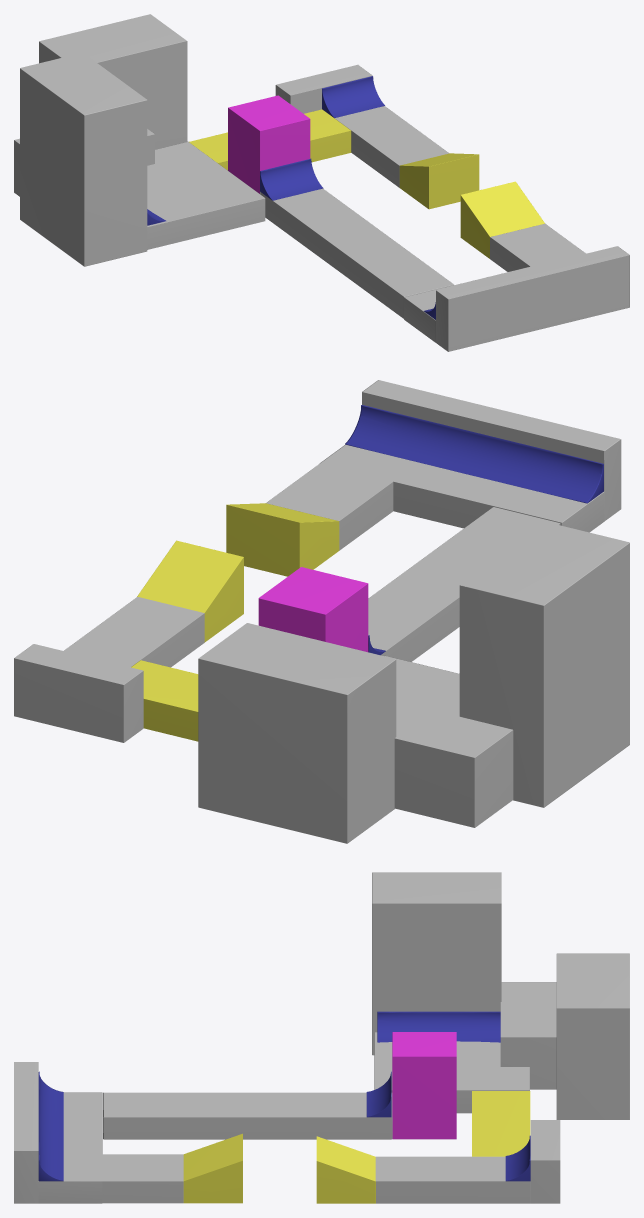
File: SM_Cat_Blockout_01.fbx
3 renders of one model, top to bottom at view 1: azimuth 30°, elevation 25°; view 2: azimuth 150°, elevation 25°; view 3: azimuth 270°, elevation 25°, orthographic. The views are drawn at different scales.
Visible parts, largest first — view 1: ground; view 2: ground; view 3: ground.
Boxes of the visible parts, x1=… form: ground: x1=14, y1=14, x2=629, y2=351; ground: x1=14, y1=380, x2=629, y2=843; ground: x1=14, y1=872, x2=629, y2=1203.
Size of the model in its own units: 2777 by 1099 by 4018.
